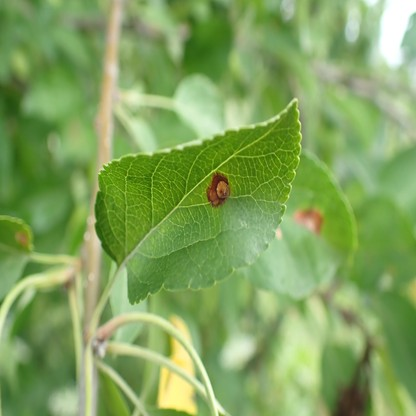frogeye_leaf_spot: (206, 172, 230, 208), (293, 209, 322, 234), (14, 232, 27, 245), (275, 228, 282, 241)
